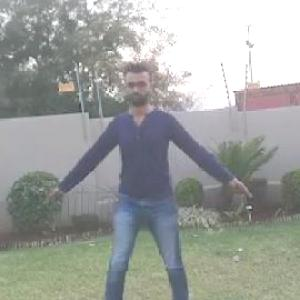land: (50, 67, 238, 299)
